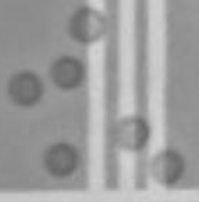cell: (63, 3, 112, 47), (105, 110, 153, 154), (146, 144, 188, 186), (39, 138, 79, 181), (48, 51, 87, 93), (4, 66, 44, 106)
